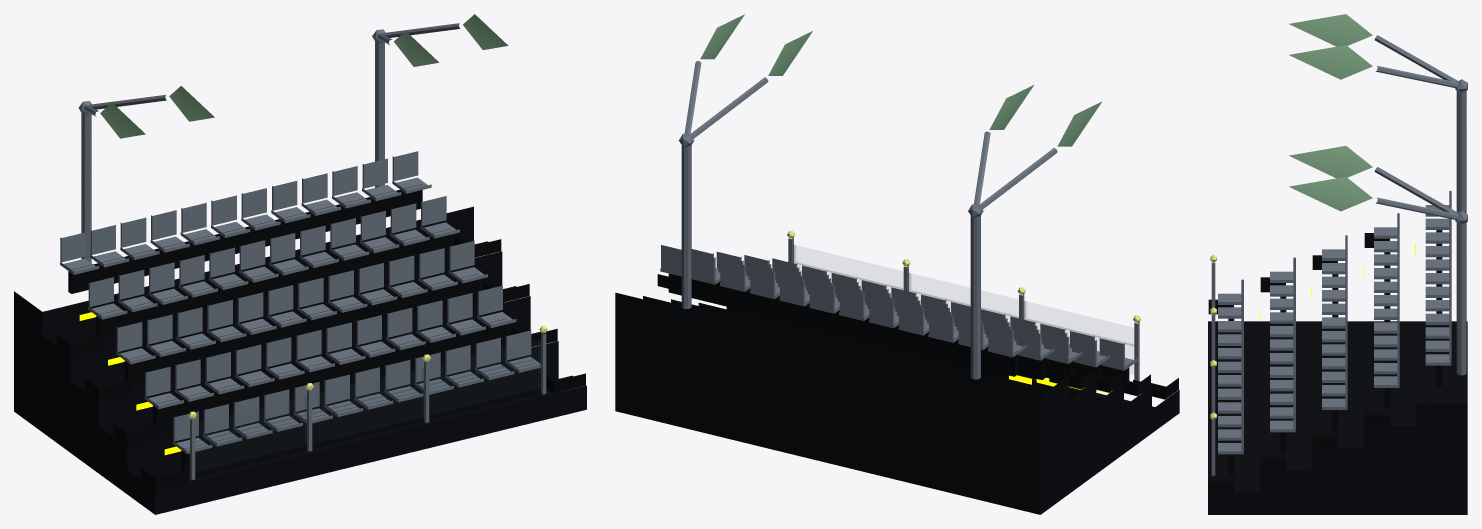
The model's file is v6_hybrid.glb.
3 views of the same model, side by side, from view 1: azimuth 30°, elevation 25°; view 2: azimuth 150°, elevation 25°; view 3: azimuth 270°, elevation 25° (orthographic). The views are drawn at different scales.
Visible parts, largest first — view 1: Tier_Concrete, Seat_Backs, Seat_Beams, Seat_Pans, Aisle_Steps, Canopy_Steel, Canopy_Leaves, Guard_Glass, Rail_Posts; view 2: Tier_Concrete, Seat_Backs, Seat_Beams, Canopy_Steel, Canopy_Leaves, Seat_Pans, Aisle_Steps, Guard_Glass, Rail_Posts; view 3: Tier_Concrete, Seat_Pans, Canopy_Leaves, Canopy_Steel, Seat_Backs, Aisle_Steps, Seat_Beams, Rail_Posts.
Part boxes in pixels (x1,y1,x2,y2): Tier_Concrete: (14, 206, 586, 514); Seat_Backs: (60, 151, 531, 441); Seat_Beams: (68, 184, 535, 472); Seat_Pans: (60, 177, 540, 453); Aisle_Steps: (57, 237, 585, 490); Canopy_Steel: (78, 23, 460, 262); Canopy_Leaves: (100, 14, 508, 138); Guard_Glass: (195, 339, 541, 444); Rail_Posts: (190, 333, 546, 479); Tier_Concrete: (615, 292, 1179, 514); Seat_Backs: (661, 245, 1124, 367); Seat_Beams: (668, 273, 1129, 380); Canopy_Steel: (679, 61, 1057, 379); Canopy_Leaves: (700, 14, 1102, 146); Seat_Pans: (660, 268, 1137, 370); Aisle_Steps: (657, 274, 1178, 399); Guard_Glass: (793, 244, 1133, 346); Rail_Posts: (788, 238, 1139, 381); Tier_Concrete: (1208, 321, 1467, 514); Seat_Pans: (1218, 205, 1451, 454); Canopy_Leaves: (1289, 14, 1372, 211); Canopy_Steel: (1374, 35, 1467, 375); Seat_Backs: (1241, 191, 1451, 451); Aisle_Steps: (1208, 233, 1389, 492); Seat_Beams: (1228, 230, 1442, 474); Rail_Posts: (1211, 262, 1215, 475).
Size of the model in its own units: 7.5 by 5.81 by 4.25.
Materials: 7 (4 with a texture image).
